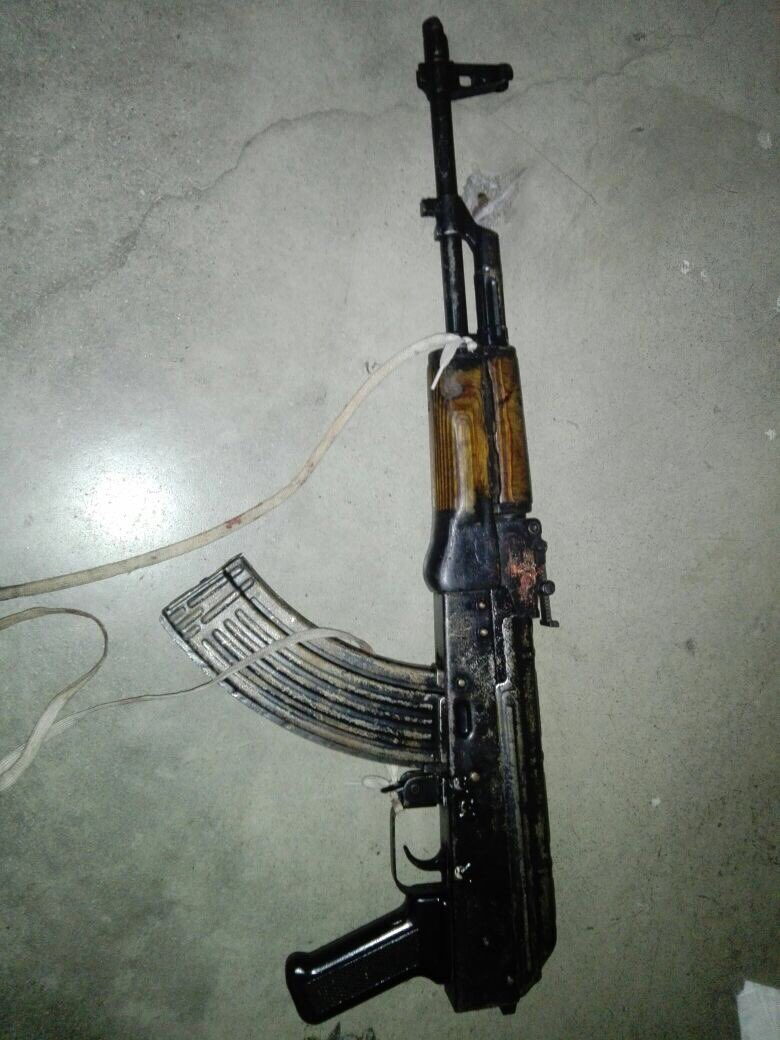Arma Real: (159, 11, 563, 1025)
